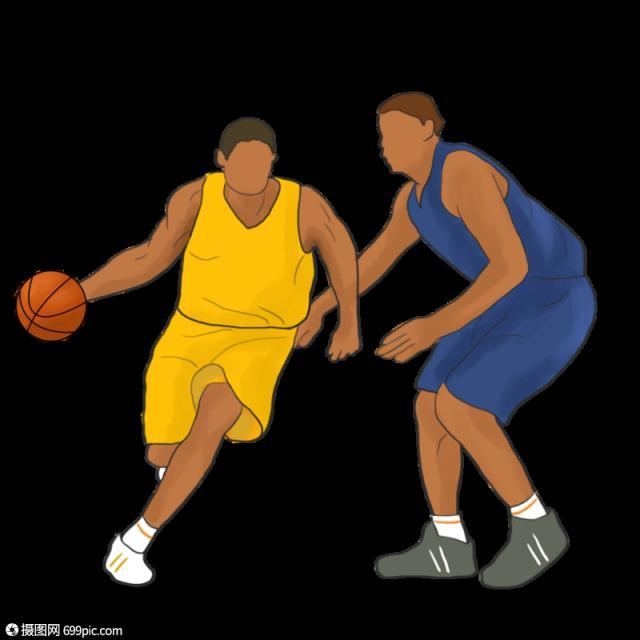rim: (14, 266, 84, 346)
